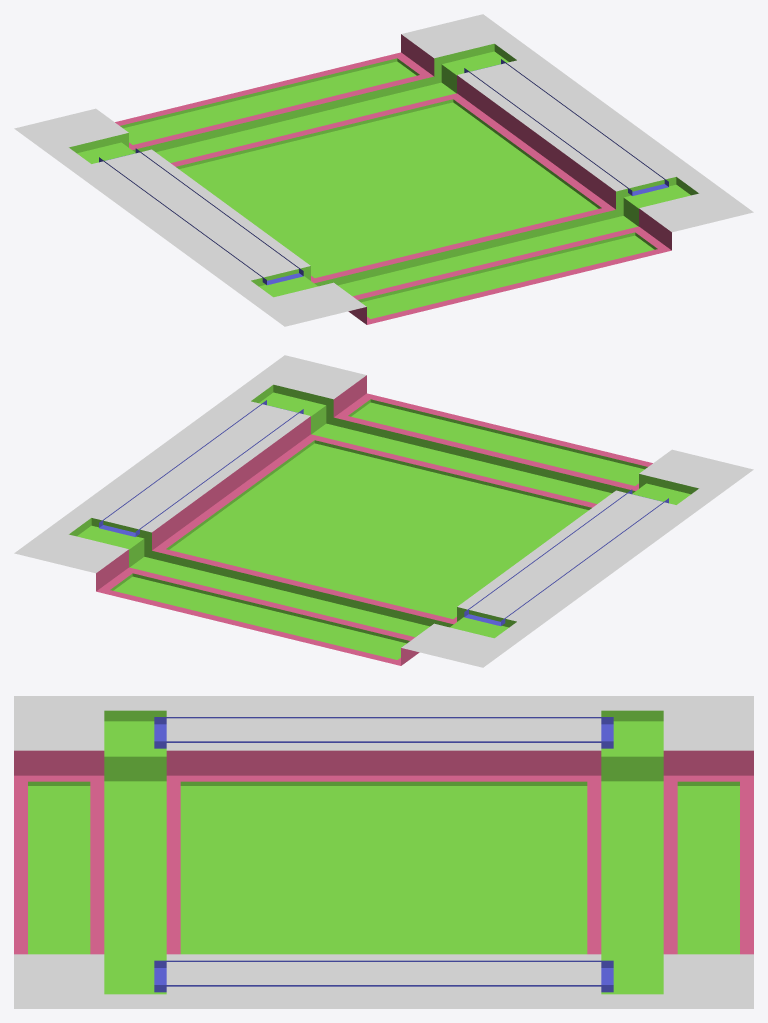
Rendered from Floor_01_Ceiling_03a.fbx.
3 renders of one model, top to bottom at view 1: azimuth 30°, elevation 25°; view 2: azimuth 150°, elevation 25°; view 3: azimuth 270°, elevation 25°, orthographic. The views are drawn at different scales.
Visible parts, largest first — view 1: Plane; view 2: Plane; view 3: Plane.
Boxes of the visible parts, x1,y1,x2,y2 form: Plane: (14, 14, 753, 326); Plane: (14, 355, 753, 667); Plane: (14, 696, 753, 1008).
Bounding box in the file's own units: 200 × 11.05 × 200.
